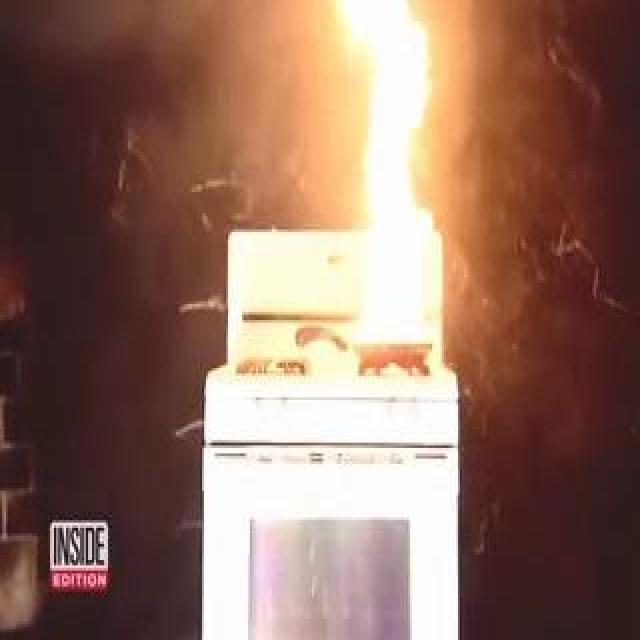Fire: (316, 3, 456, 357)
